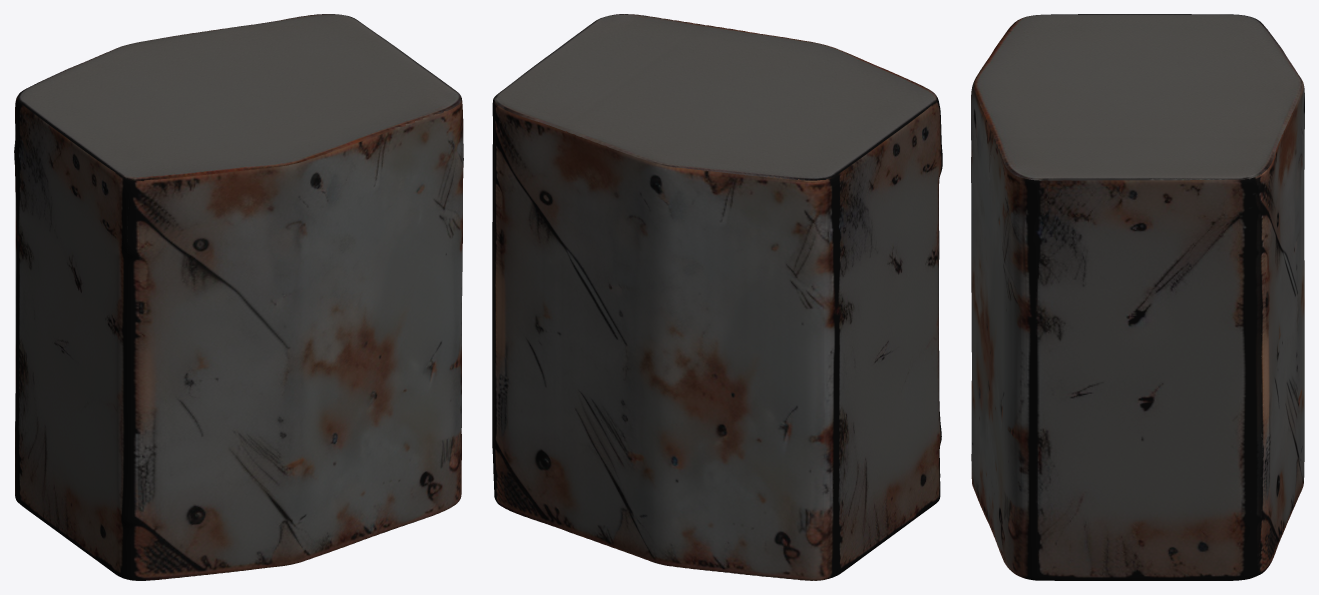
Rendered from catalog-raw-scrap.glb.
The picture shows the model from 3 angles, left to right: view 1: azimuth 30°, elevation 25°; view 2: azimuth 150°, elevation 25°; view 3: azimuth 270°, elevation 25°; orthographic projection.
Parts seen in each view (by area): view 1: tmplljicjyv.ply; view 2: tmplljicjyv.ply; view 3: tmplljicjyv.ply.
Boxes of the visible parts, x1=… form: tmplljicjyv.ply: x1=14, y1=14, x2=463, y2=580; tmplljicjyv.ply: x1=492, y1=14, x2=942, y2=580; tmplljicjyv.ply: x1=971, y1=14, x2=1304, y2=580.
Size of the model in its own units: 1.58 by 1.77 by 1.33.
Materials: 1 (1 with a texture image).
